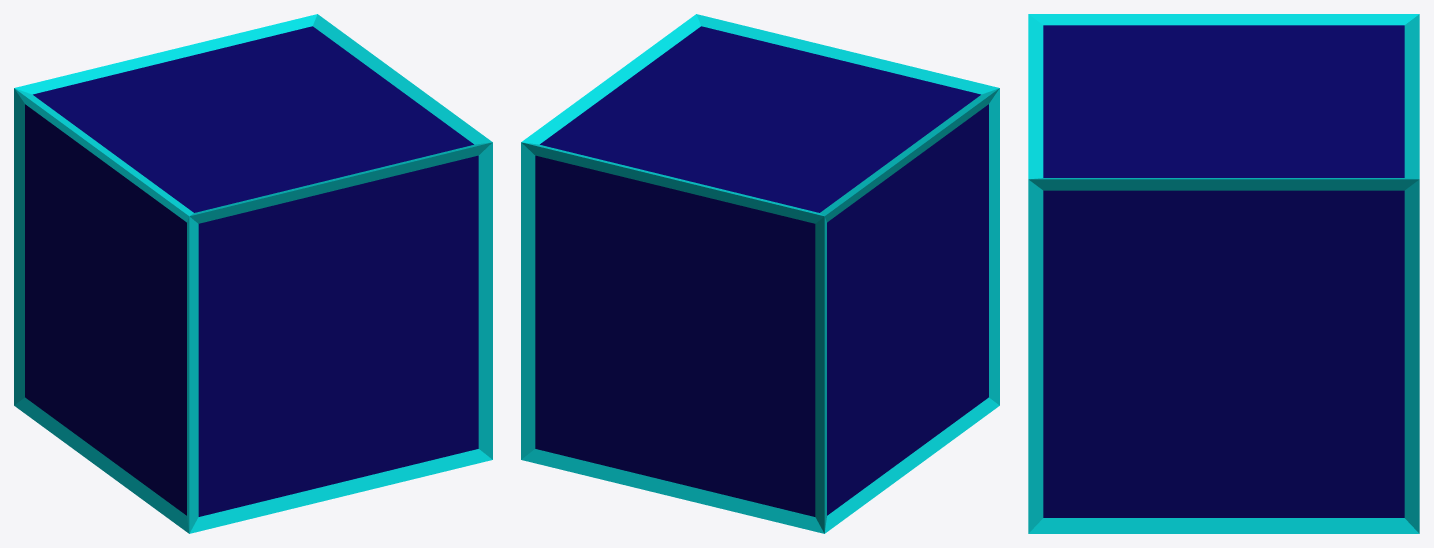
3 renders of one model, left to right at view 1: azimuth 30°, elevation 25°; view 2: azimuth 150°, elevation 25°; view 3: azimuth 270°, elevation 25°, orthographic. The views are drawn at different scales.
Visible parts, largest first — view 1: outline; view 2: outline; view 3: outline.
Boxes of the visible parts, <box> form: outline: <box>14,14,492,533</box>; outline: <box>521,14,999,533</box>; outline: <box>1028,14,1419,533</box>.
Bounding box in the file's own units: 206 × 206 × 206.
